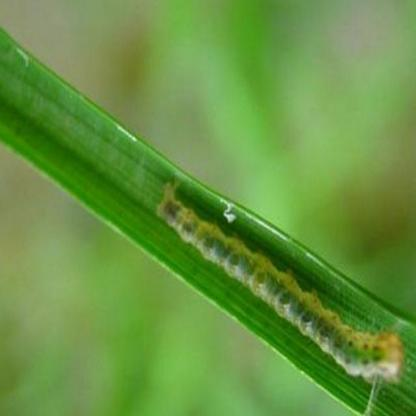leaf-folder: (152, 168, 409, 402)
